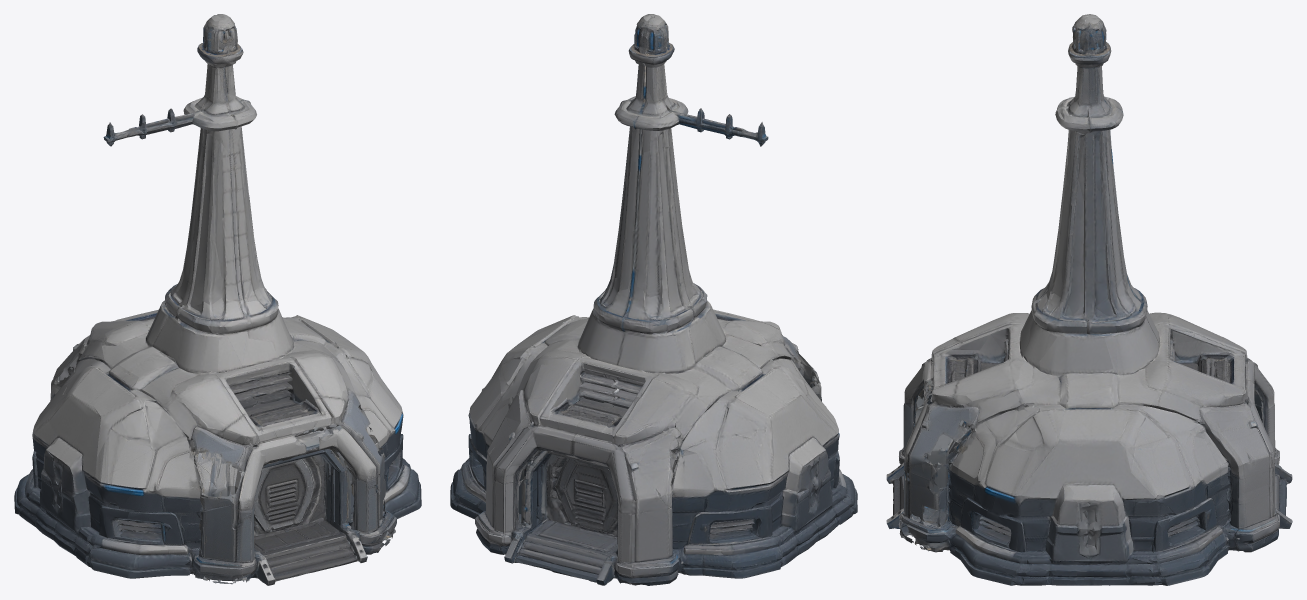
The model's file is command-post.glb.
3 renders of one model, left to right at view 1: azimuth 30°, elevation 25°; view 2: azimuth 150°, elevation 25°; view 3: azimuth 270°, elevation 25°, orthographic.
Parts seen in each view (by area): view 1: mesh_node; view 2: mesh_node; view 3: mesh_node.
Part boxes in pixels (<box>): mesh_node: <box>14,14,421,585</box>; mesh_node: <box>450,14,857,585</box>; mesh_node: <box>886,14,1292,585</box>.
Size of the model in its own units: 1.36 by 1.9 by 1.43.
1 material, 1 textured.
